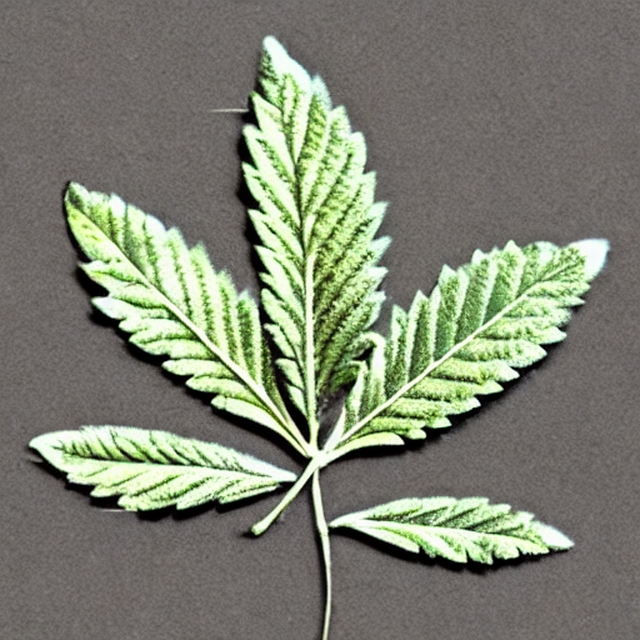Marijuana Leaf: (27, 33, 610, 639)
